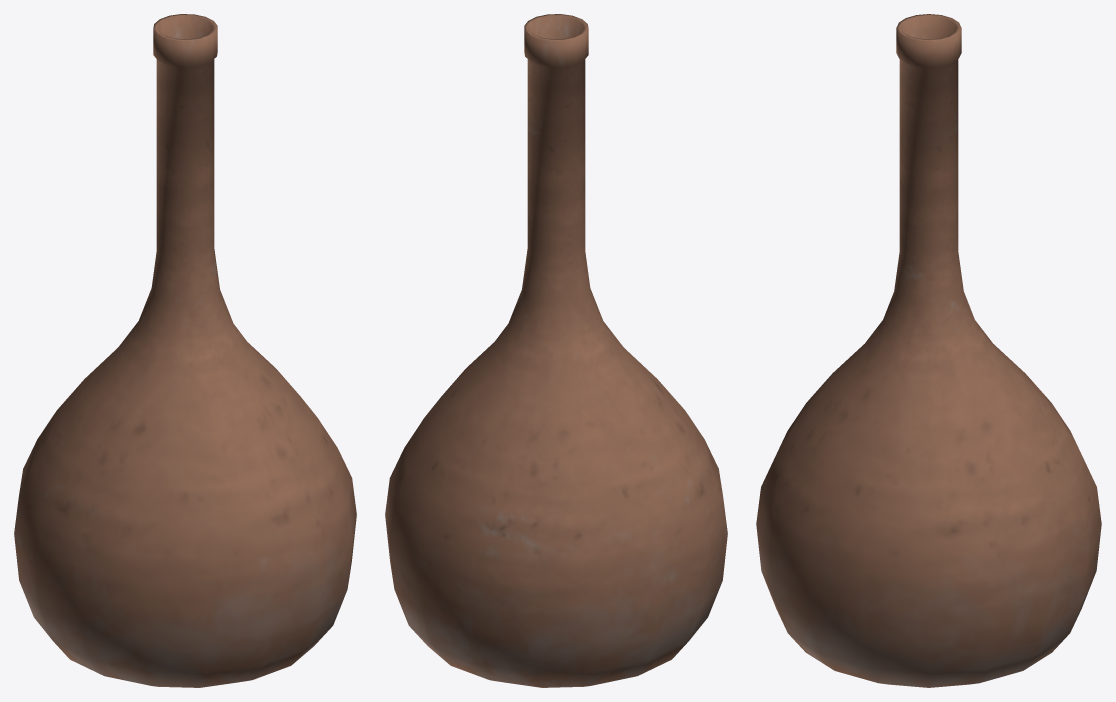
File: clay_flask.glb
3 views of the same model, side by side, from view 1: azimuth 30°, elevation 25°; view 2: azimuth 150°, elevation 25°; view 3: azimuth 270°, elevation 25° (orthographic).
Parts seen in each view (by area): view 1: Pottery4_Pottery4_0; view 2: Pottery4_Pottery4_0; view 3: Pottery4_Pottery4_0.
Boxes of the visible parts, x1,y1,x2,y2 form: Pottery4_Pottery4_0: (14,14,356,687); Pottery4_Pottery4_0: (385,14,727,687); Pottery4_Pottery4_0: (756,14,1101,687).
Bounding box in the file's own units: 0.8694 × 1.71 × 0.8694.
1 material, 1 textured.
